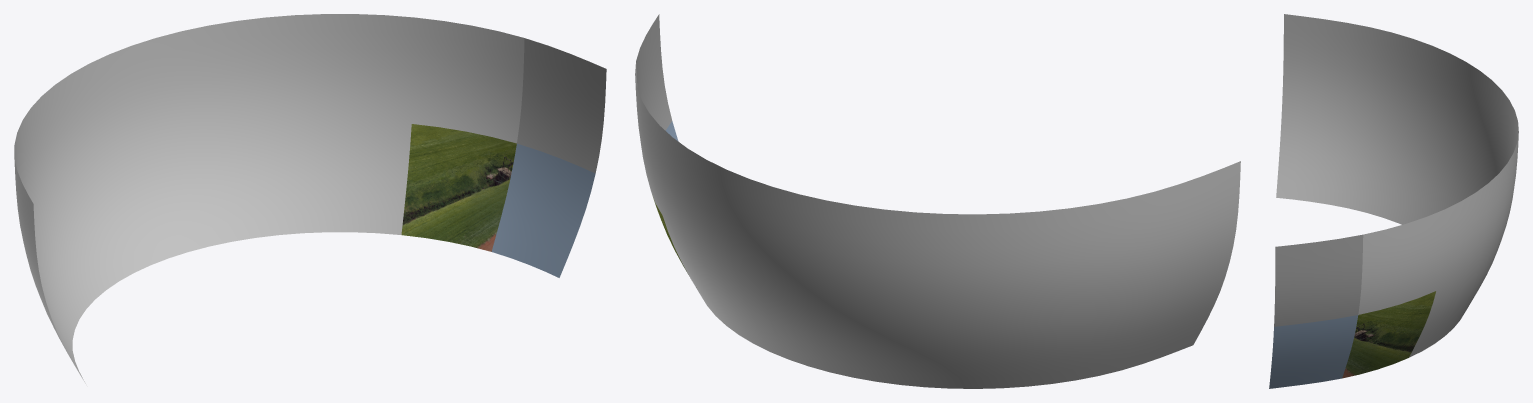
The model's file is PanoramicPlane_Tower1.fbx.
3 renders of one model, left to right at view 1: azimuth 30°, elevation 25°; view 2: azimuth 150°, elevation 25°; view 3: azimuth 270°, elevation 25°, orthographic. The views are drawn at different scales.
Parts seen in each view (by area): view 1: polymsh; view 2: polymsh; view 3: polymsh.
Part boxes in pixels (left/top/right/bottom): polymsh: left=14, top=14, right=606, bottom=383; polymsh: left=635, top=14, right=1240, bottom=388; polymsh: left=1269, top=14, right=1518, bottom=388.
Bounding box in the file's own units: 440 × 144 × 199.
